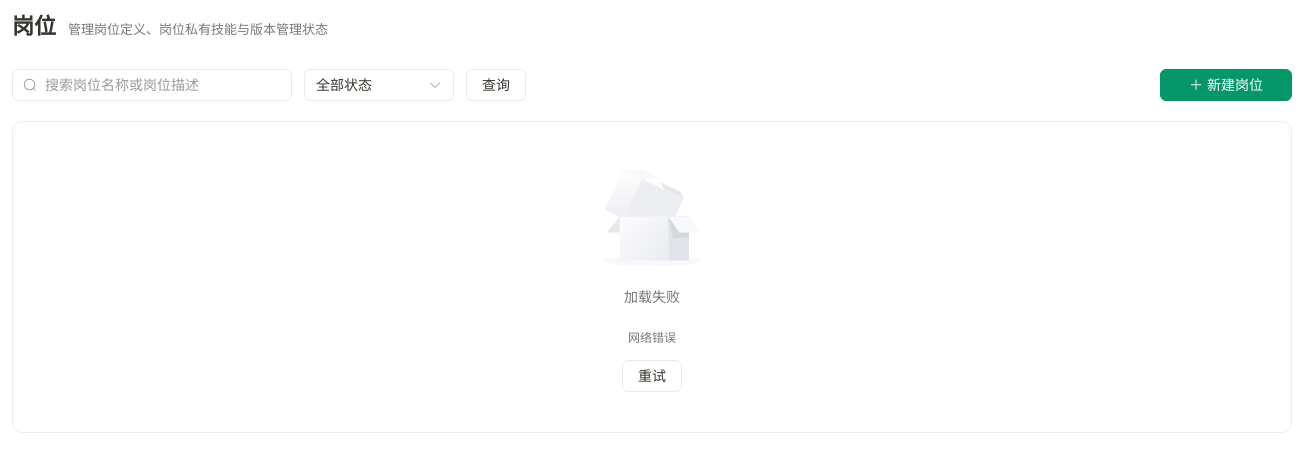
AdminPositions · 真实 Element Plus 挂载冒烟 › listPositions 拒绝 → 显「加载失败」+【重试】，不显空态；点【重试】重拉成功后表格回来（md §一.3 L29）
The width and height of the screenshot is (1304, 450).
Click the button "重试" at (652, 376), box [622,360,682,392]
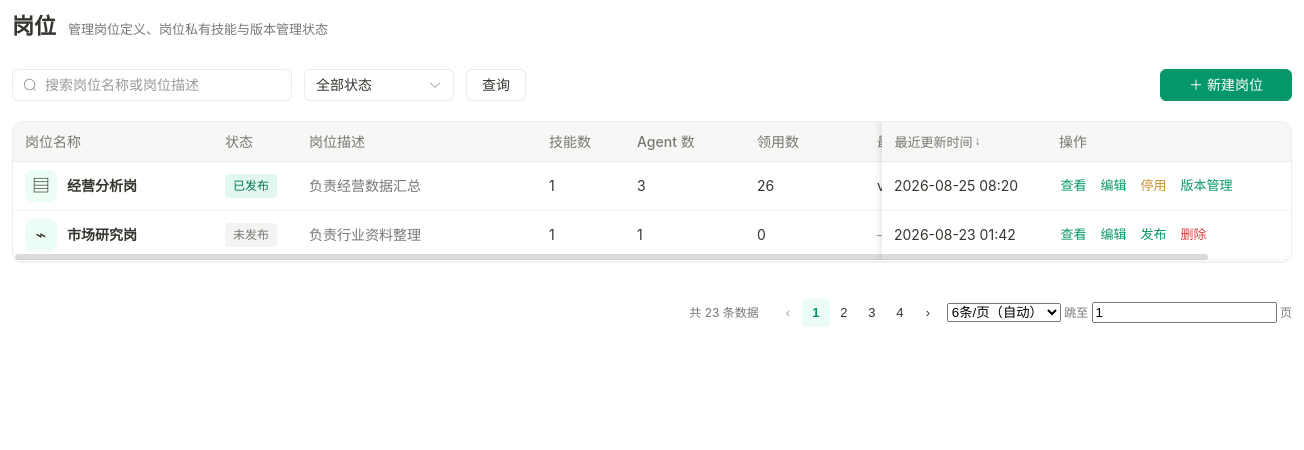
Expected: the text "加载失败" is gone
Expected: the text "经营分析岗" is shown, [67,174,137,197]
